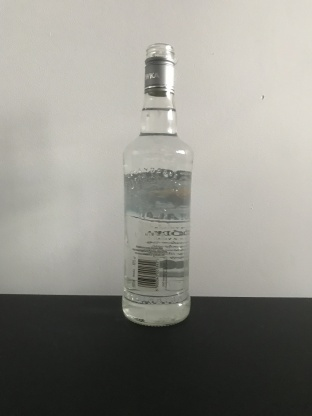nakretka: (142, 40, 178, 97)
